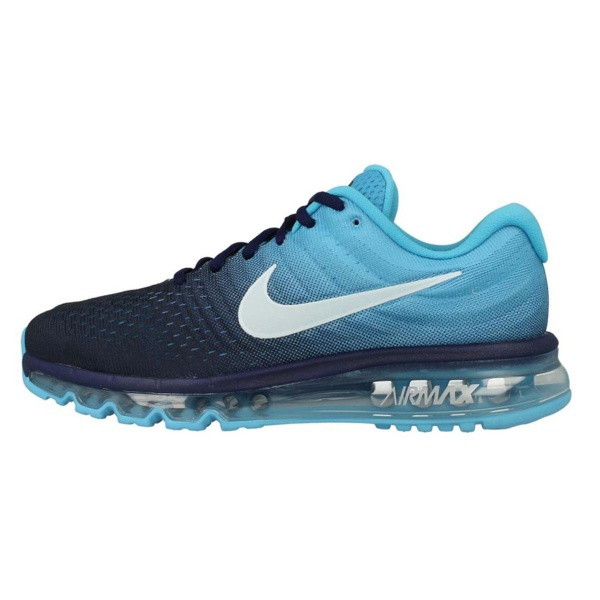nike: (232, 261, 473, 345)
